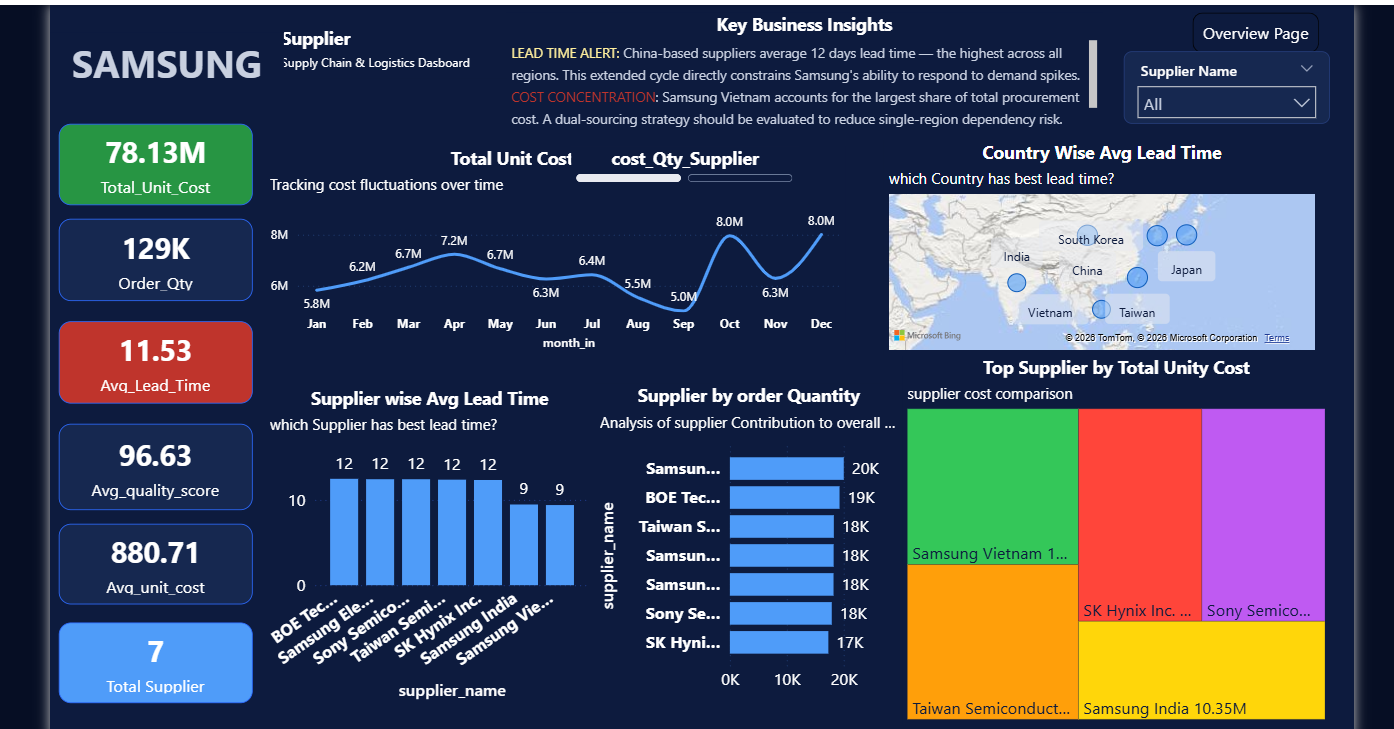

The page's visual inventory and layout, read from the dashboard file:
{"tool":"powerbi","page":{"name":"Supplier","canvas":[1280,720],"ordinal":2},"visuals":[{"type":"textbox","title":"Supplier","box":[311.5,20.6,256.6,52.1],"z":0},{"type":"image","box":[8.2,16.5,225,56.3],"z":1000},{"type":"card","fields":{"Values":["MeasuresTable.Order_Qty"]},"box":[8.6,210.3,190.8,80.7],"z":2000},{"type":"card","fields":{"Values":["MeasuresTable.Avg_Lead_Time"]},"box":[8.6,310.6,190.8,80.7],"z":3000},{"type":"card","fields":{"Values":["MeasuresTable.Avg_quality_score"]},"box":[8.4,411.4,190.6,84.5],"z":4000},{"type":"card","fields":{"Values":["MeasuresTable.Total_Unit_Cost"]},"box":[8.6,116.2,190.8,80],"z":5000},{"type":"card","fields":{"Values":["fact_procurement.Avg_unit_cost"]},"box":[8.6,508.7,190.8,79.5],"z":6000},{"type":"card","fields":{"Values":["CountNonNull(dim_supplier.supplier_id)"]},"box":[8.6,606.5,190.8,79.5],"z":7000},{"type":"clusteredBarChart","title":"Supplier wise Avg Lead Time","fields":{"Y":["MeasuresTable.Avg_Lead_Time"],"Category":["dim_supplier.supplier_name"]},"box":[211.1,374,323.3,312.5],"z":8000},{"type":"clusteredBarChart","title":"Supplier by order Quantity","fields":{"Category":["dim_supplier.supplier_name"],"Y":["MeasuresTable.Order_Qty"]},"box":[562.2,374,302.8,312.5],"z":9000},{"type":"clusteredBarChart","title":"Top Supplier by Total Unity Cost","fields":{"Category":["dim_supplier.supplier_name"],"Y":["MeasuresTable.Total_Unit_Cost"]},"box":[938.6,374,307.6,312.5],"z":10000},{"type":"clusteredBarChart","title":"Country Wise Avg Lead Time","fields":{"Y":["MeasuresTable.Avg_Lead_Time"],"Category":["dim_supplier.country"]},"box":[818,132.7,428.3,211.1],"z":11000},{"type":"group","id":"g1","title":"Group 1","box":[211.1,138.7,569.4,205.1],"z":12000},{"type":"actionButton","box":[1122,7.2,124.3,39.8],"z":13000},{"type":"lineChart","title":"Total Unit Cost by Month","fields":{"Y":["MeasuresTable.Total_Unit_Cost"],"Category":["dim_date.Month_Short"]},"box":[211.1,139.2,569.4,204.6],"z":13000,"group":"g1"},{"type":"slicer","fields":{"Values":["dim_supplier.supplier_name"]},"box":[1067.7,55.5,190.6,66.4],"z":14000},{"type":"advancedSlicerVisual","fields":{"Values":["cost_Qty_Supplier.cost_Qty_Supplier"]},"box":[512.1,138.7,223.9,41.1],"z":14500,"group":"g1"},{"type":"textbox","title":"Key Business Insights","box":[602,20.5,430.7,112.2],"z":15000}]}

Visuals, with their boxes on the page's 1280x720 design canvas (x1, y1, x2, y2). These are canvas units, not pixel positions in the 1394x729 screenshot, which may show the page scaled, cropped or inside an application window:
"Supplier" textbox: [left=312, top=21, right=568, bottom=73]
image: [left=8, top=16, right=233, bottom=73]
card - MeasuresTable.Order_Qty: [left=9, top=210, right=199, bottom=291]
card - MeasuresTable.Avg_Lead_Time: [left=9, top=311, right=199, bottom=391]
card - MeasuresTable.Avg_quality_score: [left=8, top=411, right=199, bottom=496]
card - MeasuresTable.Total_Unit_Cost: [left=9, top=116, right=199, bottom=196]
card - fact_procurement.Avg_unit_cost: [left=9, top=509, right=199, bottom=588]
card - CountNonNull(dim_supplier.supplier_id): [left=9, top=606, right=199, bottom=686]
"Supplier wise Avg Lead Time" clusteredBarChart: [left=211, top=374, right=534, bottom=686]
"Supplier by order Quantity" clusteredBarChart: [left=562, top=374, right=865, bottom=686]
"Top Supplier by Total Unity Cost" clusteredBarChart: [left=939, top=374, right=1246, bottom=686]
"Country Wise Avg Lead Time" clusteredBarChart: [left=818, top=133, right=1246, bottom=344]
"Group 1" group: [left=211, top=139, right=780, bottom=344]
actionButton: [left=1122, top=7, right=1246, bottom=47]
"Total Unit Cost by Month" lineChart: [left=211, top=139, right=780, bottom=344]
slicer - dim_supplier.supplier_name: [left=1068, top=56, right=1258, bottom=122]
advancedSlicerVisual - cost_Qty_Supplier.cost_Qty_Supplier: [left=512, top=139, right=736, bottom=180]
"Key Business Insights" textbox: [left=602, top=20, right=1033, bottom=133]
